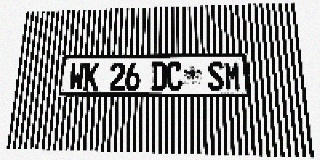2: (110, 62, 125, 91)
6: (125, 62, 141, 91)
C: (167, 62, 182, 91)
D: (151, 62, 166, 91)
K: (83, 63, 100, 90)
M: (224, 61, 241, 91)
S: (207, 61, 225, 91)
W: (69, 63, 85, 90)
